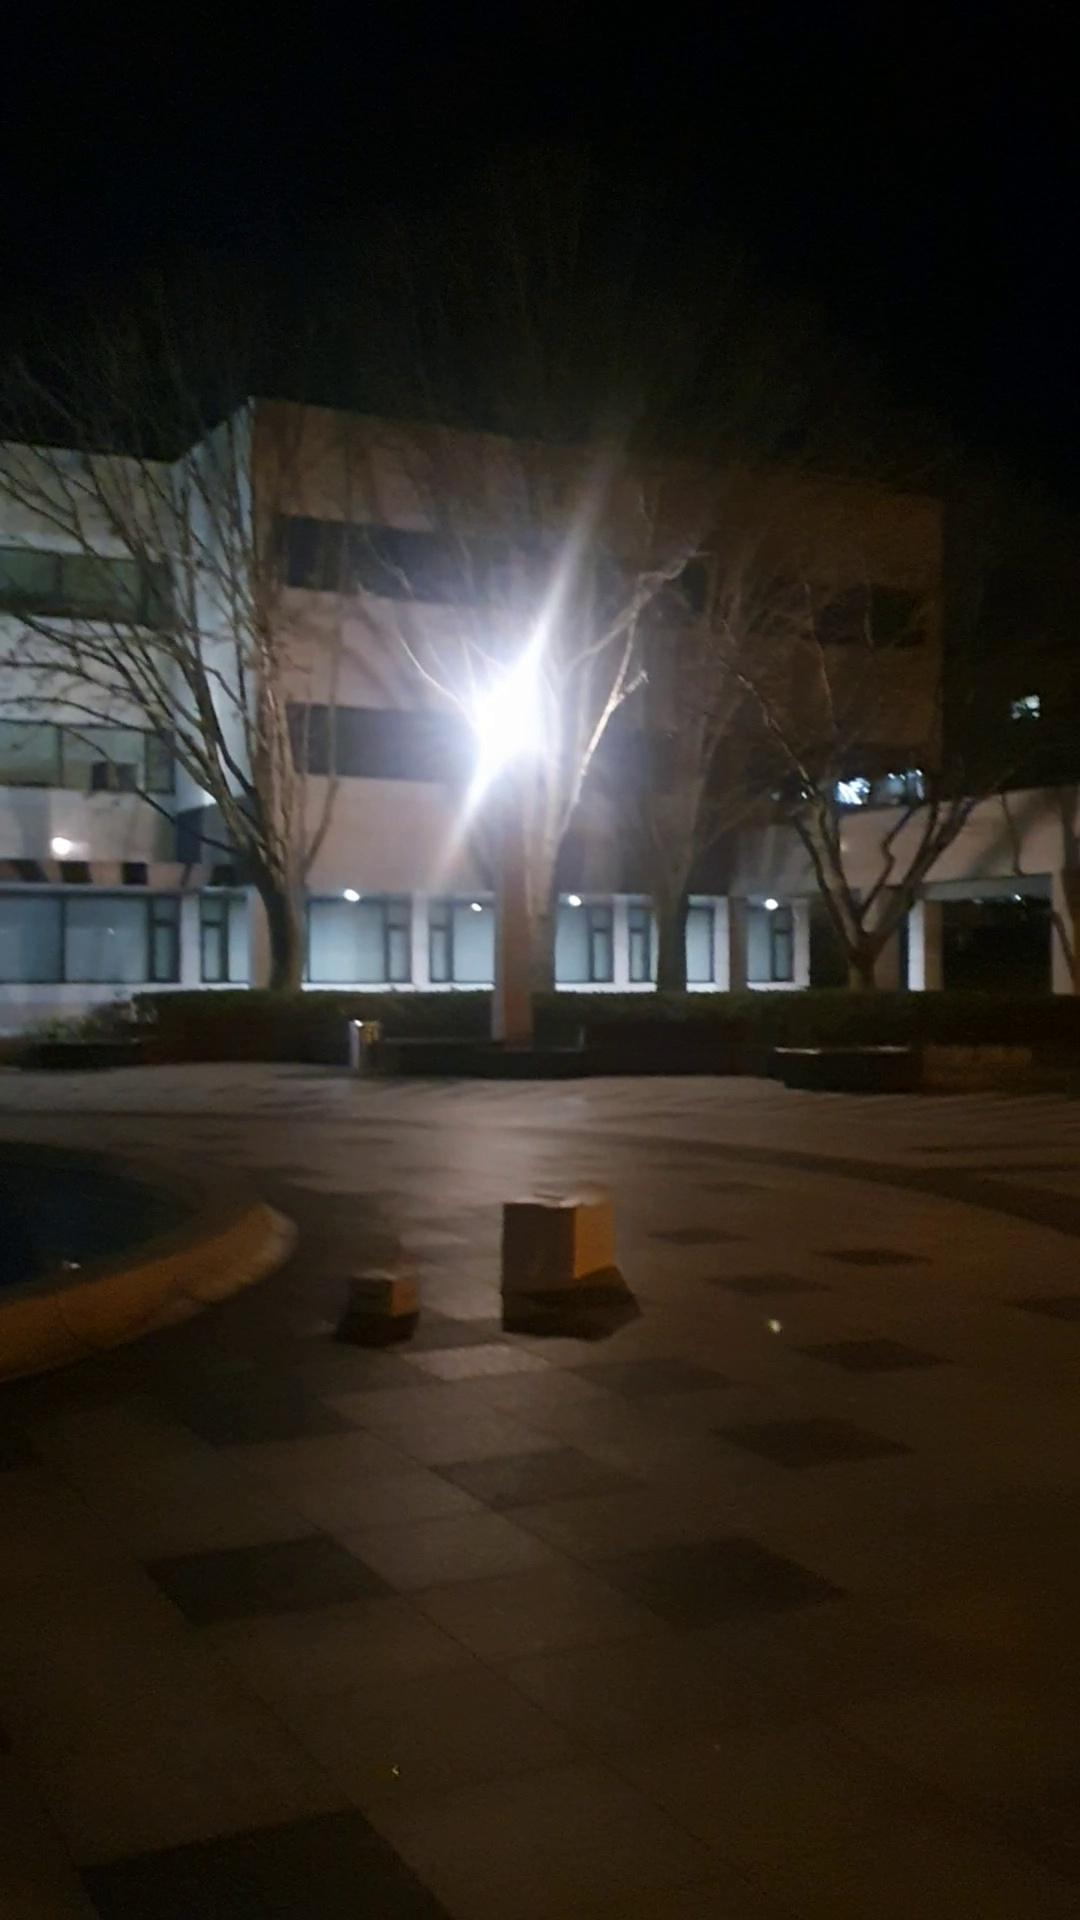Box: (487, 1188, 644, 1320), (342, 1253, 415, 1325)
